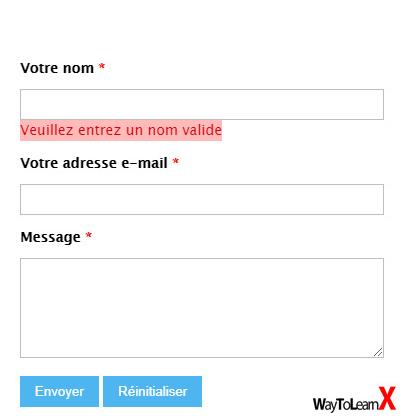button: (102, 375, 204, 409), (18, 375, 100, 409)
field: (19, 257, 385, 359), (18, 183, 386, 217), (19, 87, 385, 121)
field_with_label: (17, 230, 387, 361), (16, 157, 388, 219), (18, 62, 386, 123)
